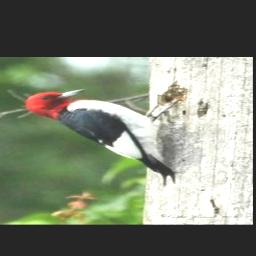Woodpecker: (24, 88, 174, 184)
